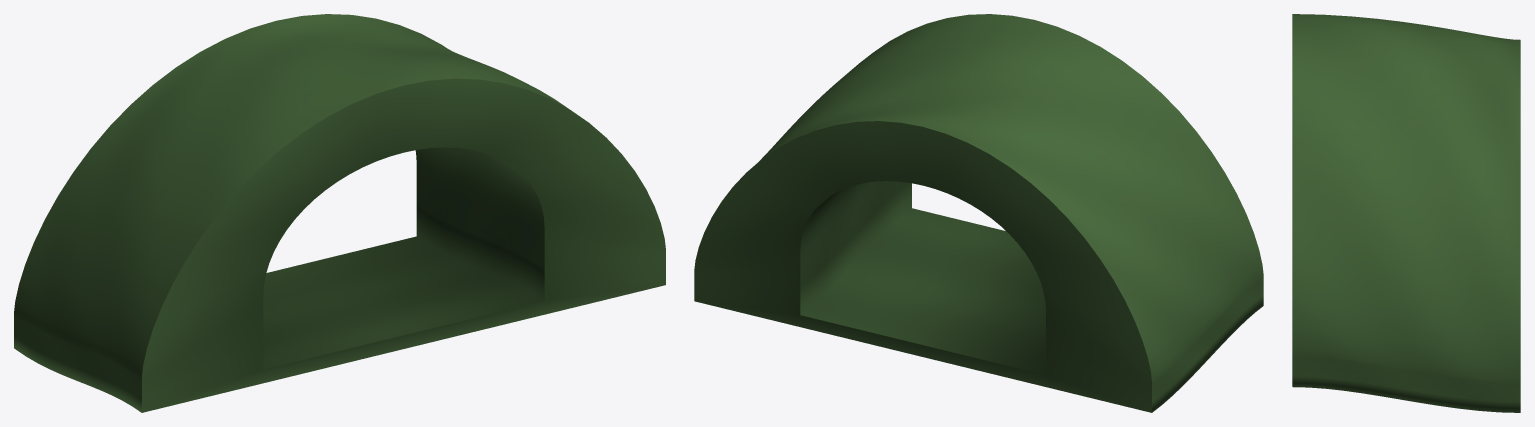
File: grade_down_terrain.glb
3 views of the same model, side by side, from view 1: azimuth 30°, elevation 25°; view 2: azimuth 150°, elevation 25°; view 3: azimuth 270°, elevation 25° (orthographic). The views are drawn at different scales.
Parts seen in each view (by area): view 1: TerrainRoof.010; view 2: TerrainRoof.010; view 3: TerrainRoof.010.
Boxes of the visible parts, <box> form: TerrainRoof.010: <box>14,14,665,412</box>; TerrainRoof.010: <box>694,14,1263,412</box>; TerrainRoof.010: <box>1292,14,1520,412</box>.
Size of the model in its own units: 28.4 by 15.15 by 12.
